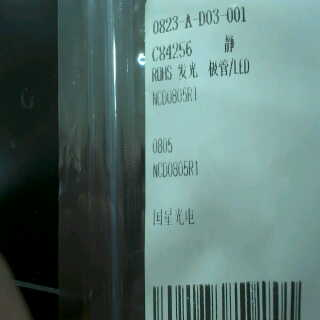LED: (174, 56, 249, 87)
